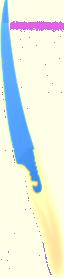Knife: (1, 1, 62, 277)
